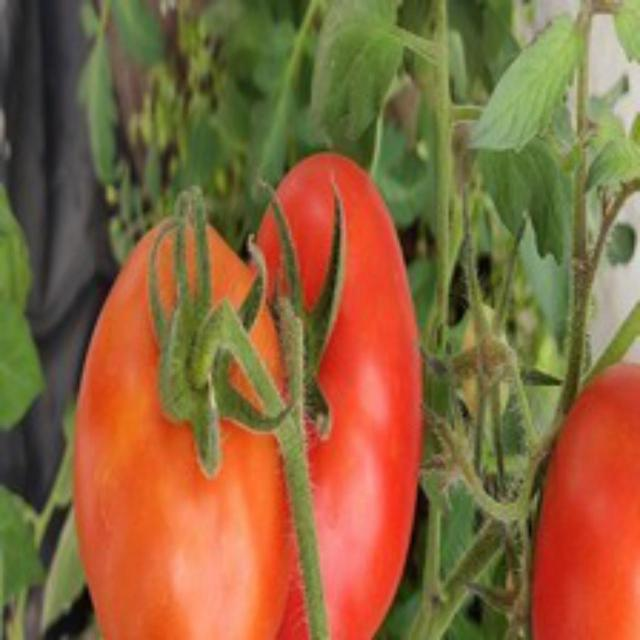tomato: (69, 203, 311, 637)
